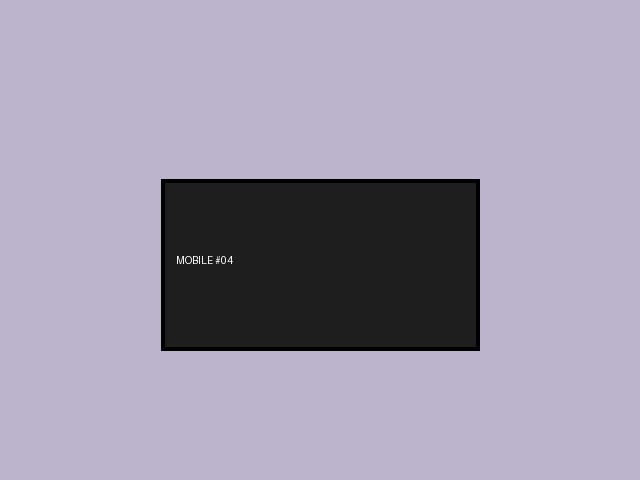mobile_phone: (161, 179, 479, 350)
